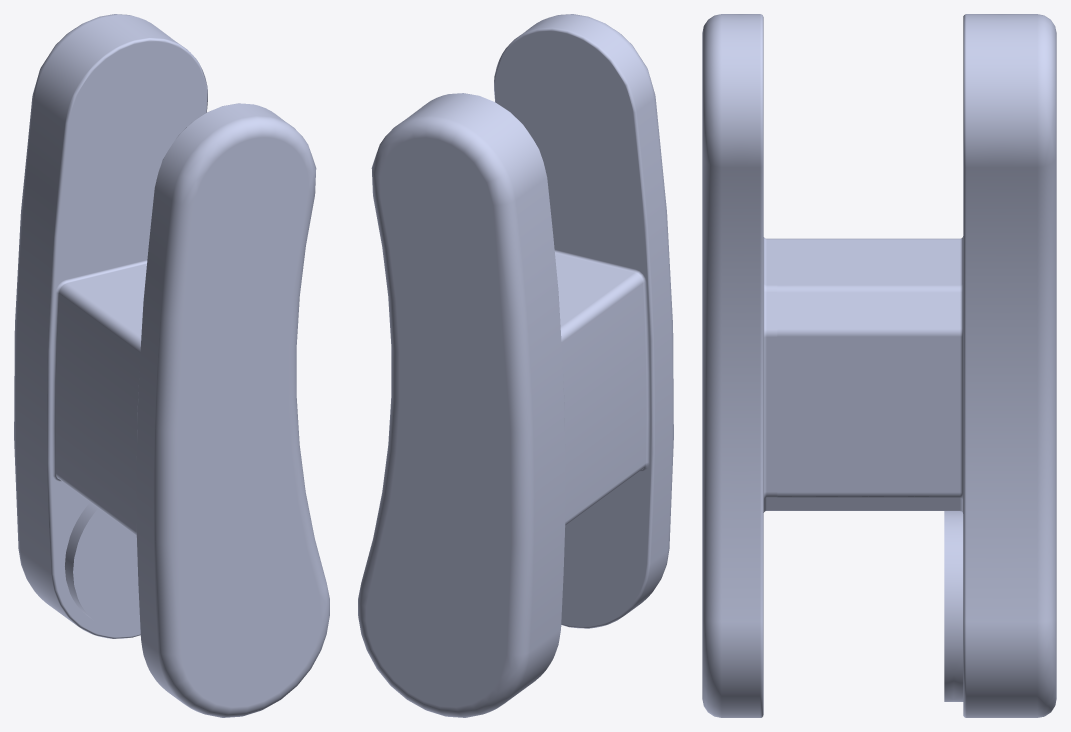
The picture shows the model from 3 angles, left to right: view 1: azimuth 30°, elevation 25°; view 2: azimuth 150°, elevation 25°; view 3: azimuth 270°, elevation 25°; orthographic projection. The views are drawn at different scales.
Parts seen in each view (by area): view 1: e39f4267-6d79-4ad9-b045-51f0d5cb2bce; view 2: e39f4267-6d79-4ad9-b045-51f0d5cb2bce; view 3: e39f4267-6d79-4ad9-b045-51f0d5cb2bce.
Boxes of the visible parts, left/top/right/bottom form: e39f4267-6d79-4ad9-b045-51f0d5cb2bce: left=14, top=14, right=329, bottom=717; e39f4267-6d79-4ad9-b045-51f0d5cb2bce: left=358, top=14, right=673, bottom=717; e39f4267-6d79-4ad9-b045-51f0d5cb2bce: left=702, top=14, right=1056, bottom=717.
Size of the model in its own units: 0.1437 by 0.22 by 0.469.
